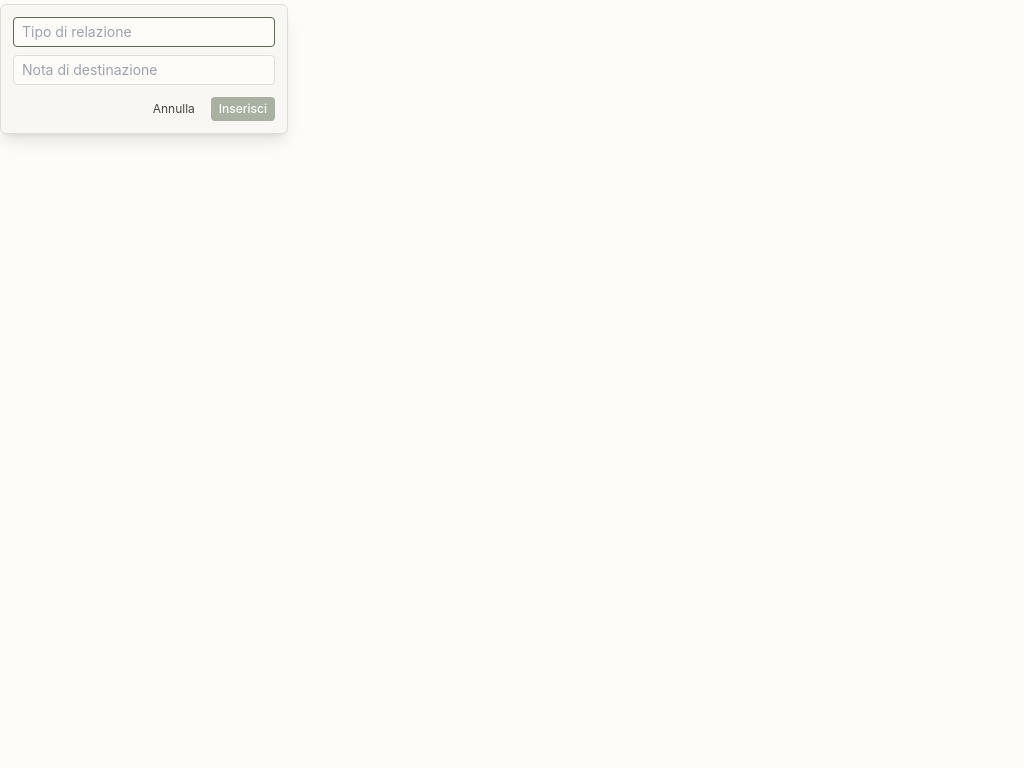
Test case: <RelationPickerPopup> › disables the commit button when either field is empty
expect the button "Inserisci" is disabled: met, box [211,97,275,121]
In the field with placeholder "Tipo di relazione": (144, 32) [13,17,275,47], type "author"
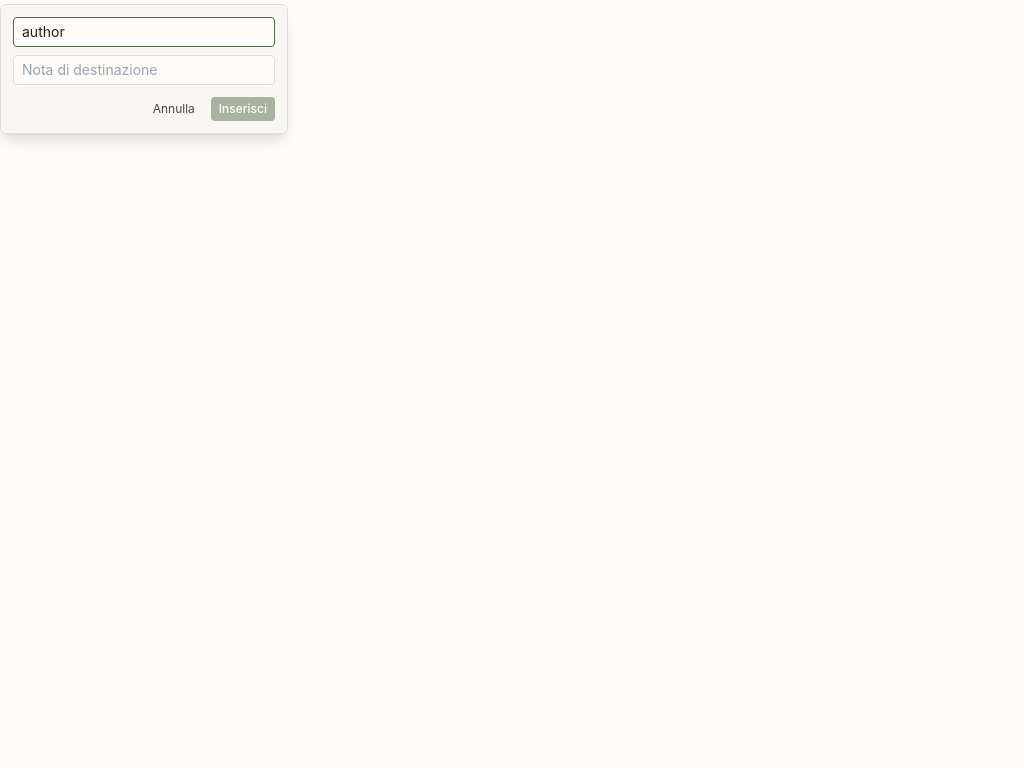
expect the button "Inserisci" is disabled: met, box [211,97,275,121]
In the field with placeholder "Nota di destinazione": (144, 70) [13,55,275,85], type "Tolkien"
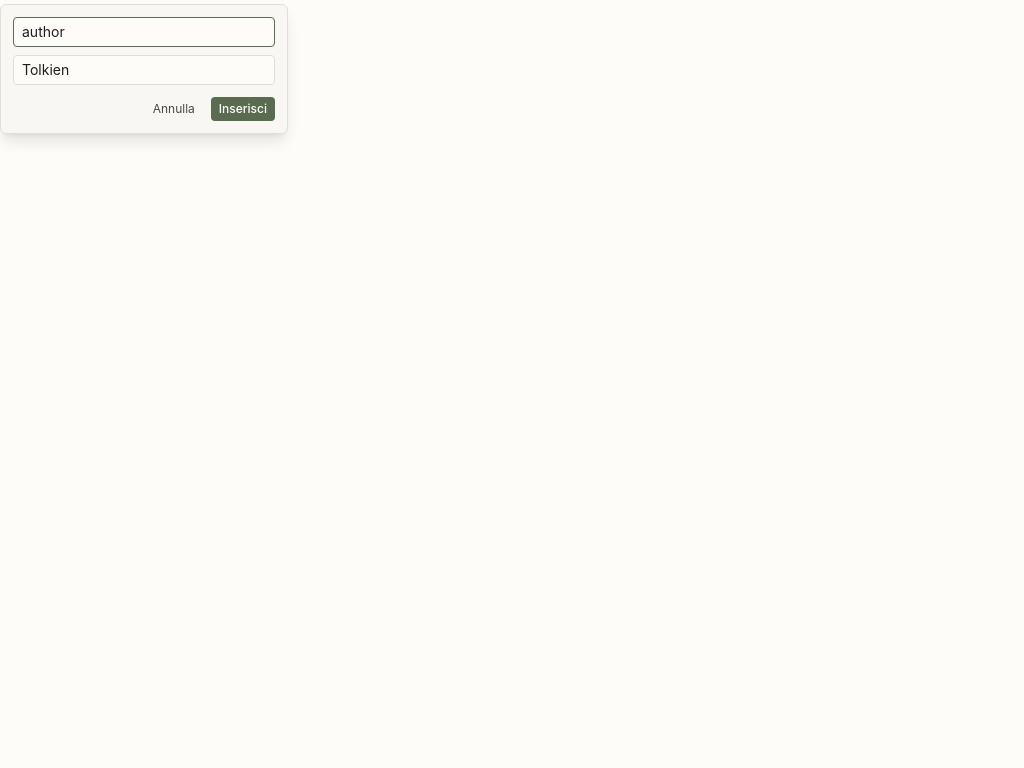
expect the button "Inserisci" is enabled: met, box [211,97,275,121]
